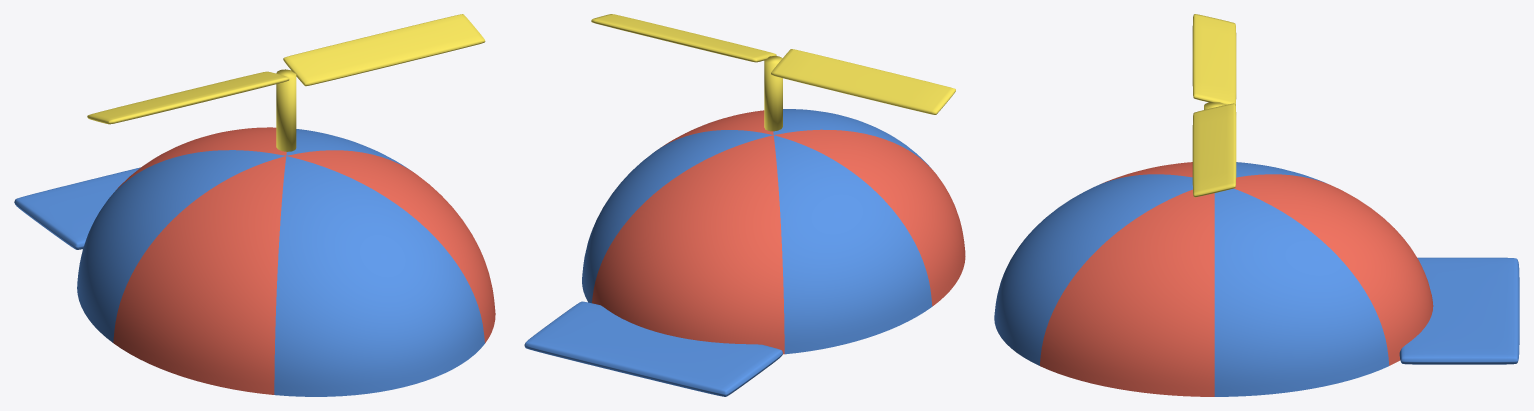
File: hat_propeller.glb
3 views of the same model, side by side, from view 1: azimuth 30°, elevation 25°; view 2: azimuth 150°, elevation 25°; view 3: azimuth 270°, elevation 25° (orthographic). The views are drawn at different scales.
Parts seen in each view (by area): view 1: propeller; view 2: propeller; view 3: propeller.
Boxes of the visible parts, <box> form: propeller: <box>14,14,495,396</box>; propeller: <box>524,14,965,396</box>; propeller: <box>994,14,1519,396</box>.
Size of the model in its own units: 0.2699 by 0.1599 by 0.3476.
